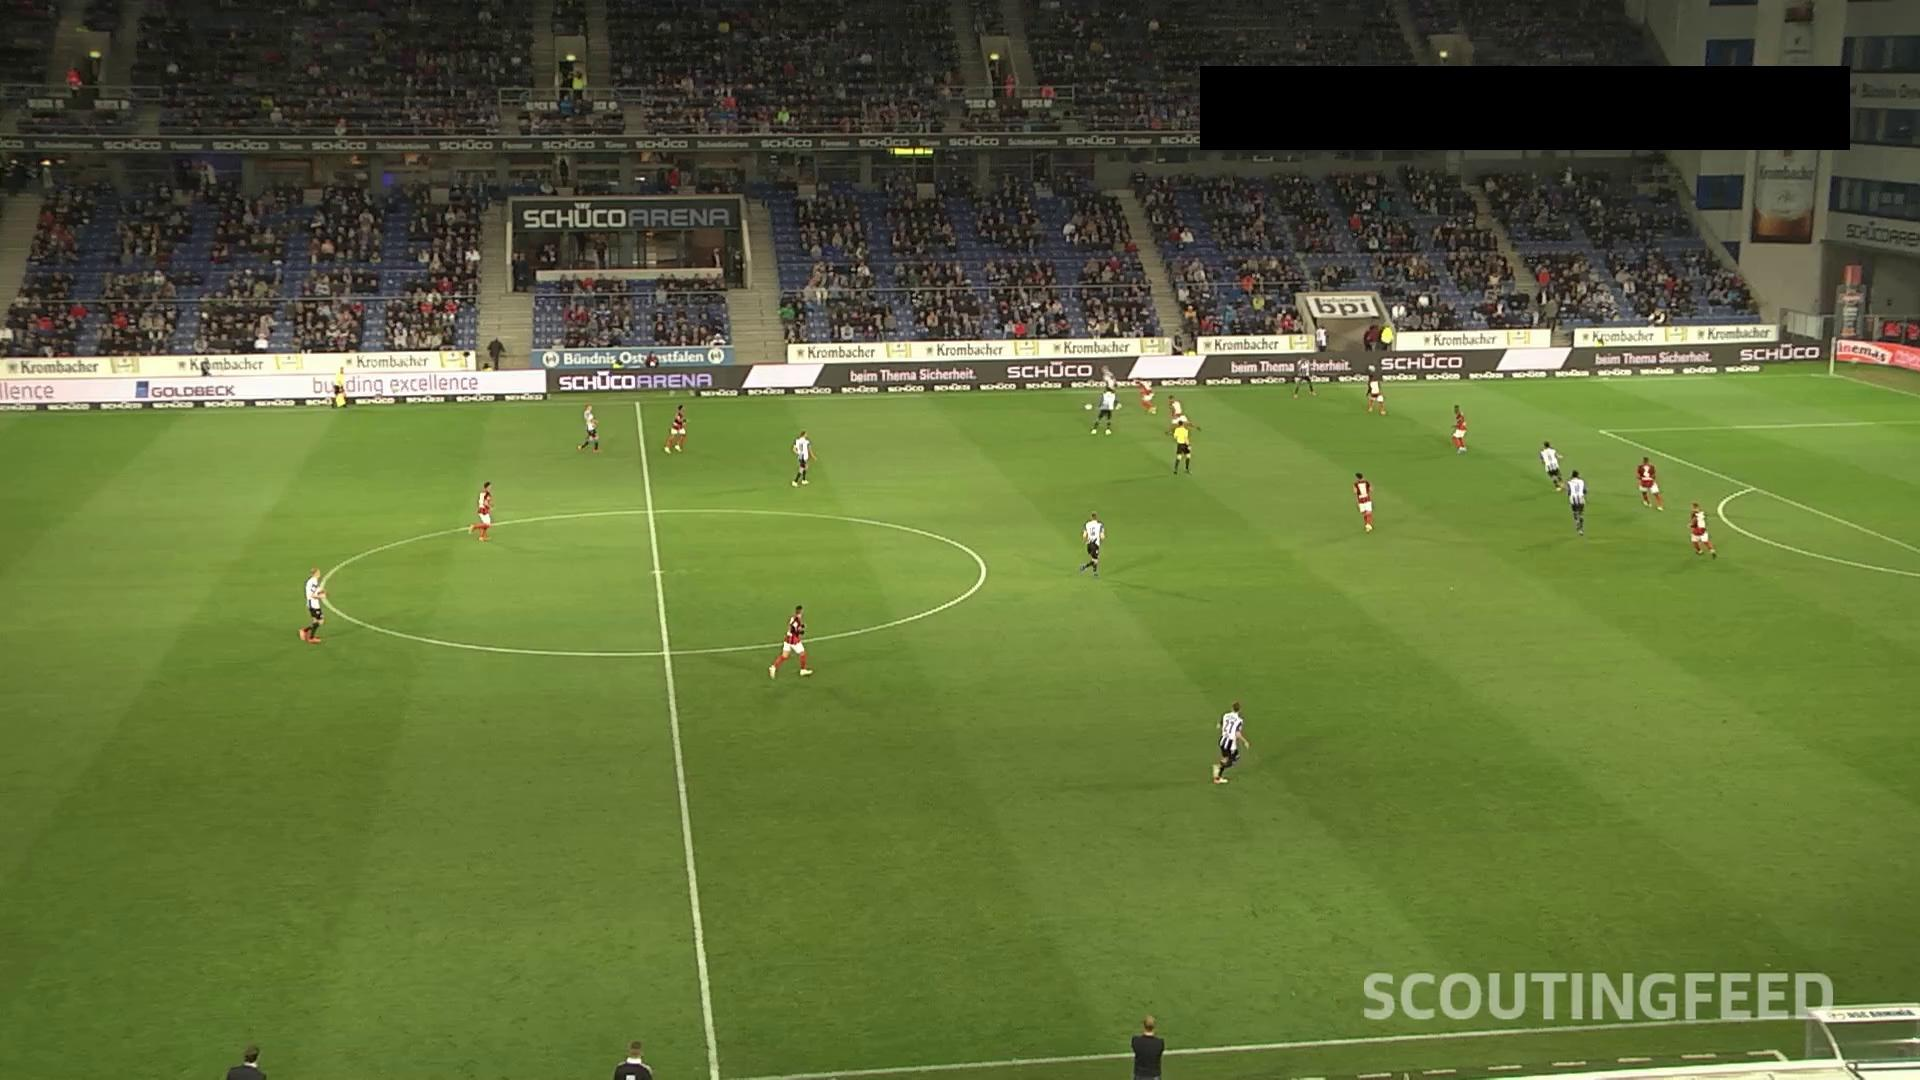Location-of-ball: (1077, 398, 1104, 427)
